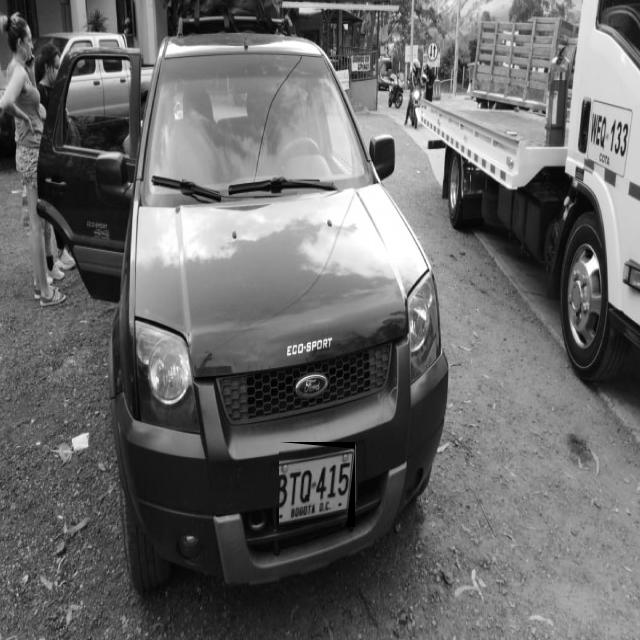plate: (279, 448, 354, 527)
